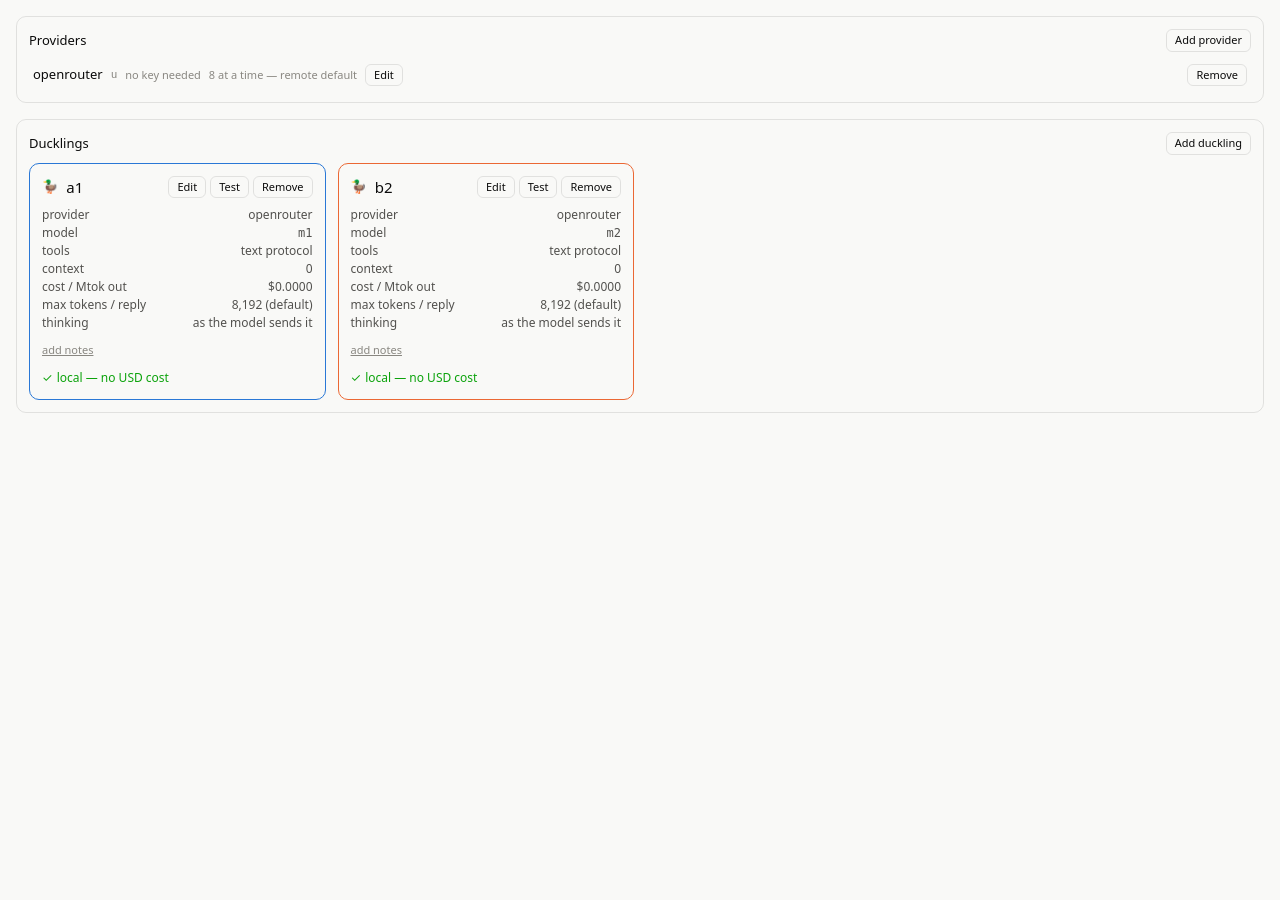
Test: editing without moving the fleet › opens the form in a drawer and preserves every card
What coordinates should you click on to do the following:
click the button with test id "duckling-edit-b2"
I would click on:
 (496, 187)
Its box is [477, 176, 515, 198].
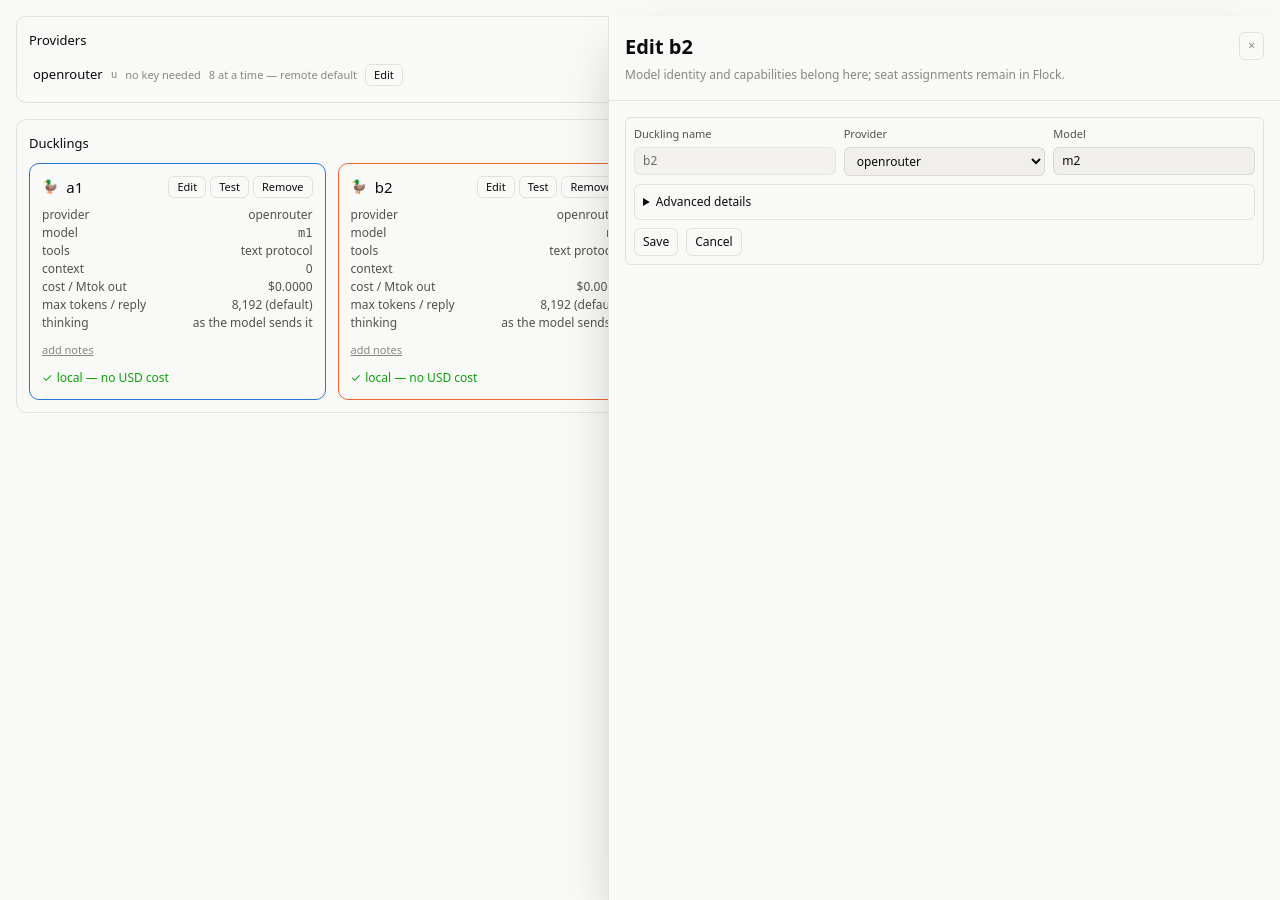
Check: the element with test id "duckling-card-b2" is shown, box [338, 162, 634, 400]
Check: the element with test id "duckling-edit-inplace" is shown
Check: the dialog "Edit b2" is shown, box [608, 16, 1279, 899]
